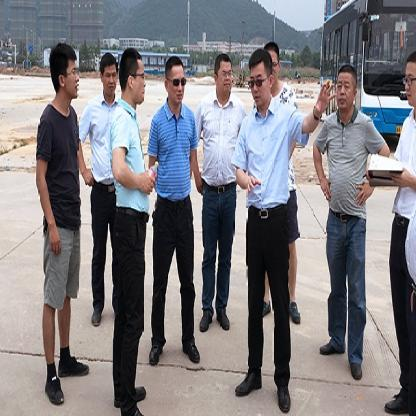sem_capacete: (48, 40, 80, 103), (117, 45, 147, 110), (245, 46, 274, 110), (162, 54, 188, 107), (333, 64, 358, 118), (212, 50, 234, 97), (97, 51, 118, 96), (400, 52, 415, 113)
sem_colete_refletivo: (232, 101, 305, 213), (313, 110, 380, 224), (35, 100, 82, 233), (146, 98, 198, 207), (108, 93, 151, 220), (193, 92, 247, 191), (76, 94, 122, 193), (385, 100, 415, 229)
